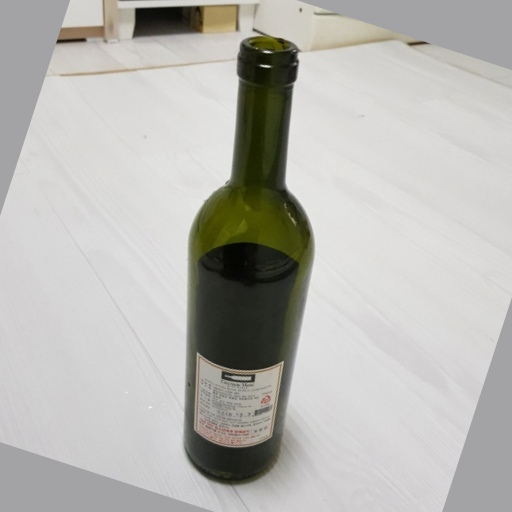Glass_2: (179, 37, 316, 489)
